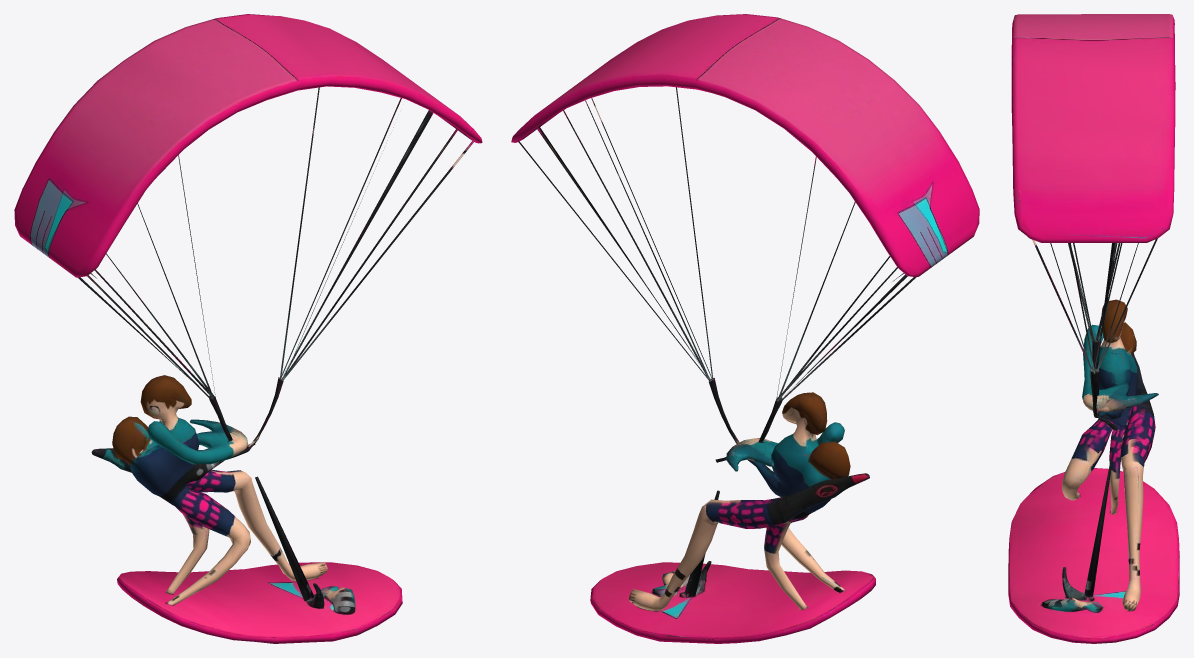
Rendered from distant_kiter.glb.
3 views of the same model, side by side, from view 1: azimuth 30°, elevation 25°; view 2: azimuth 150°, elevation 25°; view 3: azimuth 270°, elevation 25° (orthographic). The views are drawn at different scales.
Size of the model in its own units: 0.7428 by 1 by 0.2867.
1 material, 1 textured.
